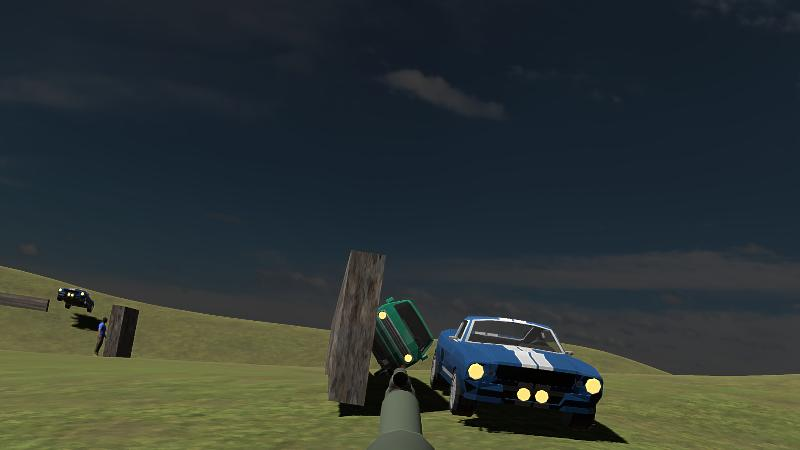car: (431, 313, 605, 430), (373, 296, 433, 371), (57, 286, 95, 314)
